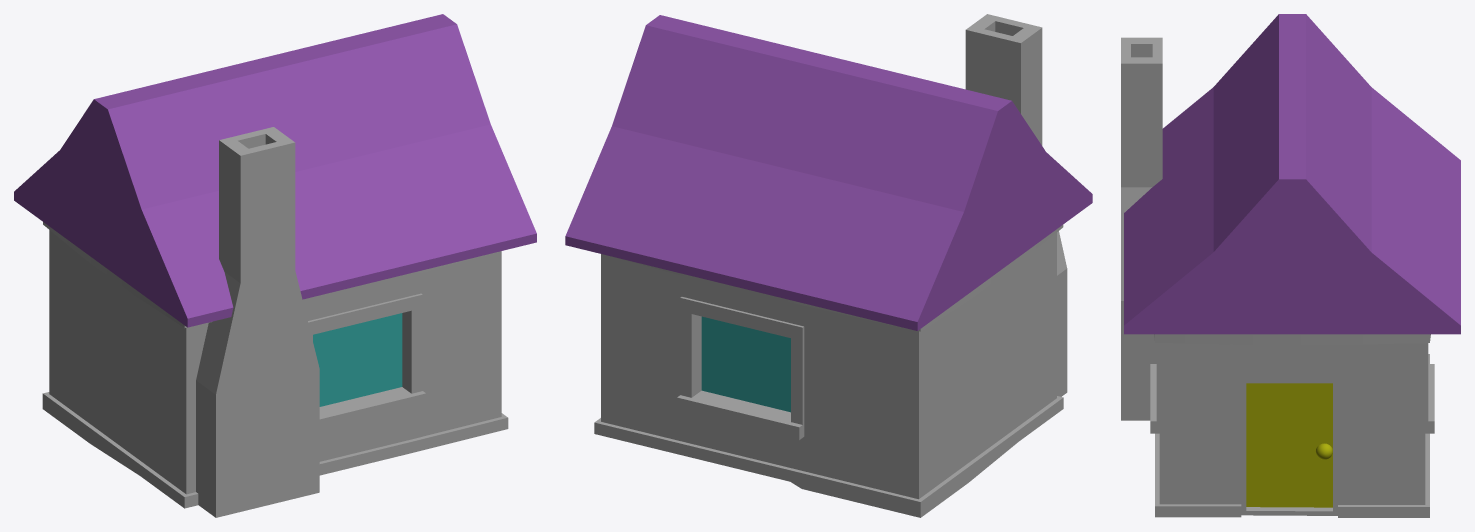
File: House_01.fbx
The picture shows the model from 3 angles, left to right: view 1: azimuth 30°, elevation 25°; view 2: azimuth 150°, elevation 25°; view 3: azimuth 270°, elevation 25°; orthographic projection. The views are drawn at different scales.
Parts seen in each view (by area): view 1: pCube4; view 2: pCube4; view 3: pCube4.
Part boxes in pixels (left/top/right/bottom): pCube4: left=14, top=14, right=536, bottom=517; pCube4: left=565, top=14, right=1092, bottom=517; pCube4: left=1121, top=14, right=1460, bottom=517.
Bounding box in the file's own units: 494 × 429 × 487.
